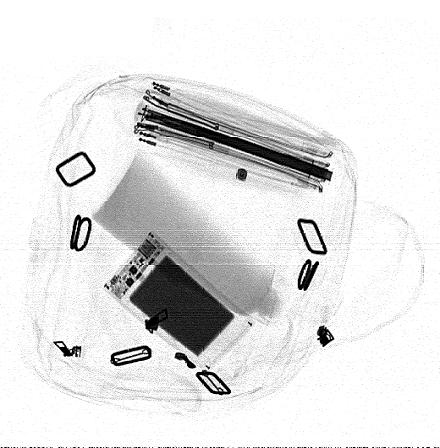Powerbank: (102, 231, 257, 372)
